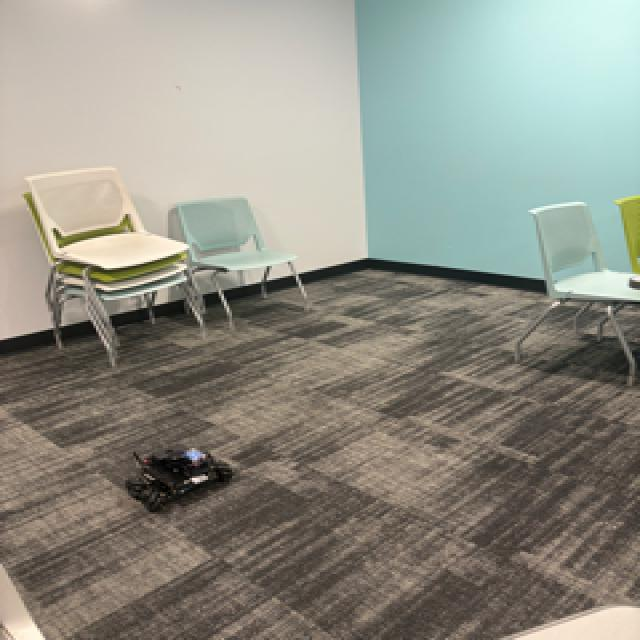ArduinoCar3: (121, 447, 235, 511)
